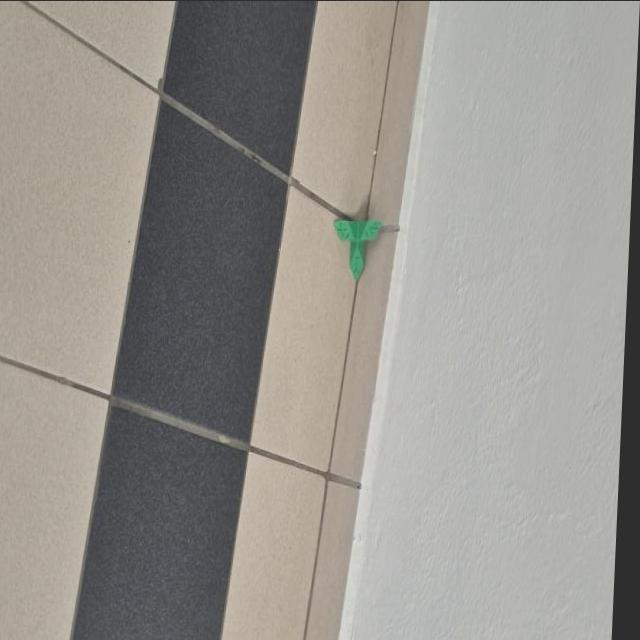eje: (329, 216, 383, 282)
